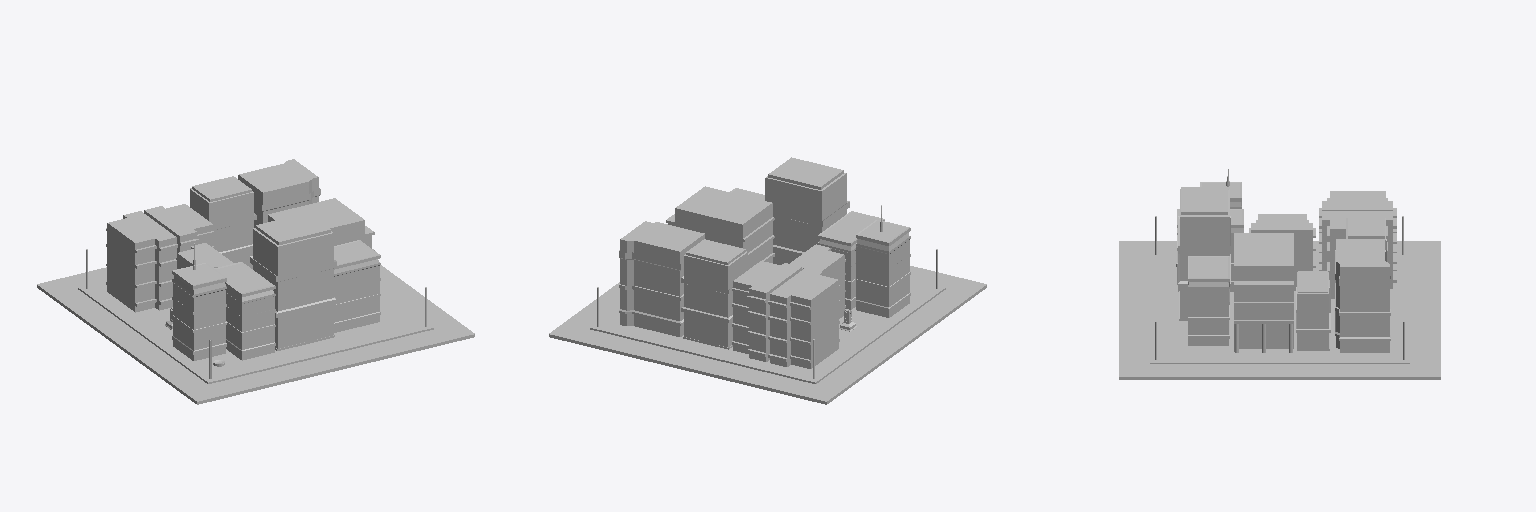
The model's file is testing.obj.
3 views of the same model, side by side, from view 1: azimuth 30°, elevation 25°; view 2: azimuth 150°, elevation 25°; view 3: azimuth 270°, elevation 25° (orthographic).
Visible parts, largest first — view 1: city_block_base Bunch_of_shit, Bunch_of_shit Building_D, Bunch_of_shit city_block_base1, Bunch_of_shit Building_E2, Bunch_of_shit Building_F Building_C2, Bunch_of_shit Building_C1, Bunch_of_shit Building_D2, Bunch_of_shit Building_C, Bunch_of_shit Building_B, Bunch_of_shit pCube2 Building_A, Bunch_of_shit Building_E1, Bunch_of_shit Building_E; view 2: city_block_base Bunch_of_shit, Bunch_of_shit Building_B, Bunch_of_shit Building_D, Bunch_of_shit city_block_base1, Bunch_of_shit Building_E2, Bunch_of_shit Building_D2, Bunch_of_shit pCube2 Building_A, Bunch_of_shit Building_F Building_C2, Bunch_of_shit Building_E1, Bunch_of_shit Building_C1, Bunch_of_shit Building_E; view 3: city_block_base Bunch_of_shit, Bunch_of_shit city_block_base1, Bunch_of_shit pCube2 Building_A, Bunch_of_shit Building_B, Bunch_of_shit Building_D, Bunch_of_shit Building_C, Bunch_of_shit Building_D1, Bunch_of_shit Building_E1, Bunch_of_shit Building_E, Bunch_of_shit Building_E2, Bunch_of_shit Building_D2, Bunch_of_shit Building_C1.
Part boxes in pixels (x1,y1,x2,y2): city_block_base Bunch_of_shit: (37, 265, 474, 404); Bunch_of_shit Building_D: (250, 213, 336, 350); Bunch_of_shit city_block_base1: (78, 280, 433, 383); Bunch_of_shit Building_E2: (106, 211, 177, 312); Bunch_of_shit Building_F Building_C2: (172, 263, 226, 360); Bunch_of_shit Building_C1: (214, 262, 275, 360); Bunch_of_shit Building_D2: (190, 176, 256, 268); Bunch_of_shit Building_C: (334, 240, 380, 332); Bunch_of_shit Building_B: (238, 159, 320, 227); Bunch_of_shit pCube2 Building_A: (268, 198, 374, 250); Bunch_of_shit Building_E1: (144, 204, 214, 252); Bunch_of_shit Building_E: (176, 243, 233, 268); city_block_base Bunch_of_shit: (549, 266, 986, 404); Bunch_of_shit Building_B: (619, 221, 704, 336); Bunch_of_shit Building_D: (765, 157, 849, 264); Bunch_of_shit city_block_base1: (590, 279, 945, 383); Bunch_of_shit Building_E2: (768, 268, 839, 368); Bunch_of_shit Building_D2: (681, 239, 747, 349); Bunch_of_shit pCube2 Building_A: (666, 186, 774, 269); Bunch_of_shit Building_F Building_C2: (856, 220, 910, 317); Bunch_of_shit Building_E1: (732, 261, 801, 361); Bunch_of_shit Building_C1: (818, 211, 884, 309); Bunch_of_shit Building_E: (790, 244, 845, 318); city_block_base Bunch_of_shit: (1119, 241, 1440, 379); Bunch_of_shit city_block_base1: (1150, 252, 1409, 363); Bunch_of_shit pCube2 Building_A: (1234, 233, 1293, 348); Bunch_of_shit Building_B: (1335, 239, 1390, 352); Bunch_of_shit Building_D: (1178, 187, 1230, 320); Bunch_of_shit Building_C: (1188, 256, 1229, 345); Bunch_of_shit Building_D1: (1296, 271, 1330, 350); Bunch_of_shit Building_E1: (1319, 211, 1396, 298); Bunch_of_shit Building_E: (1249, 214, 1315, 290); Bunch_of_shit Building_E2: (1319, 191, 1396, 270); Bunch_of_shit Building_D2: (1346, 216, 1386, 249); Bunch_of_shit Building_C1: (1177, 209, 1243, 291).
Size of the model in its own units: 26.69 by 10.31 by 26.69.